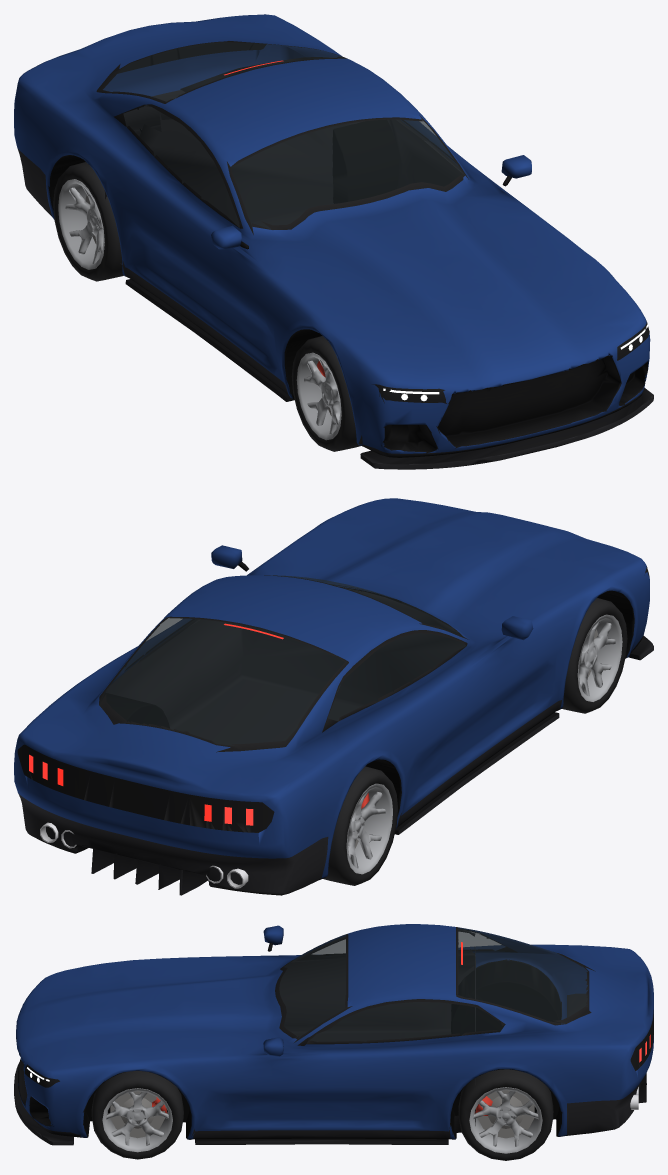
The model's file is valken_lod1.glb.
The picture shows the model from 3 angles, top to bottom: view 1: azimuth 30°, elevation 25°; view 2: azimuth 150°, elevation 25°; view 3: azimuth 270°, elevation 25°; orthographic projection. The views are drawn at different scales.
Parts seen in each view (by area): view 1: body, wheel_rr_mesh, wheel_fr_mesh; view 2: body, wheel_rr_mesh, wheel_fr_mesh; view 3: body, wheel_rl_mesh, wheel_fl_mesh.
Boxes of the visible parts, <box> form: body: <box>14,14,653,469</box>; wheel_rr_mesh: <box>53,162,123,281</box>; wheel_fr_mesh: <box>291,336,360,451</box>; body: <box>14,498,653,895</box>; wheel_rr_mesh: <box>323,766,397,885</box>; wheel_fr_mesh: <box>562,598,627,713</box>; body: <box>14,924,653,1145</box>; wheel_rl_mesh: <box>458,1069,553,1160</box>; wheel_fl_mesh: <box>91,1071,183,1159</box>.
Size of the model in its own units: 2.15 by 1.31 by 4.78.
